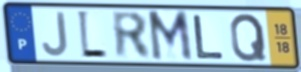J: (40, 10, 70, 58)
L: (76, 8, 109, 61), (192, 13, 226, 60)
M: (145, 9, 196, 64)
Q: (229, 12, 269, 64)
R: (109, 10, 154, 61)
